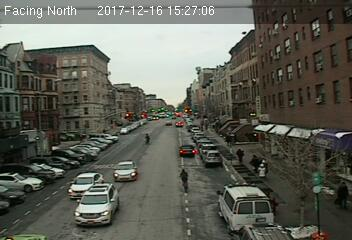bicycle: (178, 167, 190, 195)
car: (71, 184, 119, 225), (68, 173, 104, 200), (113, 162, 138, 179), (203, 150, 223, 166), (178, 144, 197, 155)
police: (218, 180, 274, 232)
